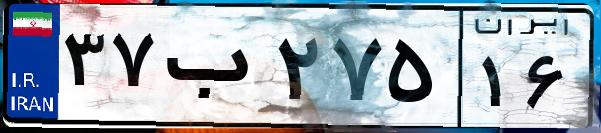1: (475, 38, 525, 113)
2: (270, 28, 330, 110)
3: (57, 26, 110, 100)
5: (385, 28, 445, 110)
6: (525, 38, 570, 115)
7: (330, 28, 385, 110), (110, 28, 158, 98)
ب: (158, 20, 270, 120)
